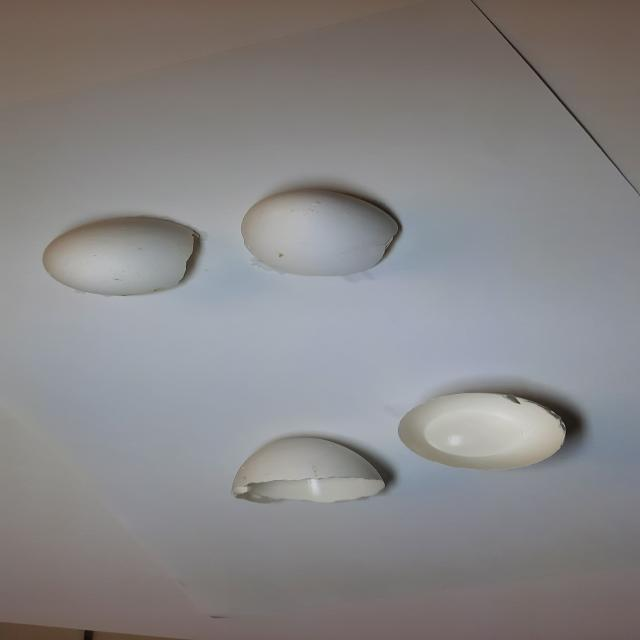egg shell: (382, 386, 578, 476), (229, 183, 405, 281), (32, 210, 208, 300), (226, 427, 400, 516)
